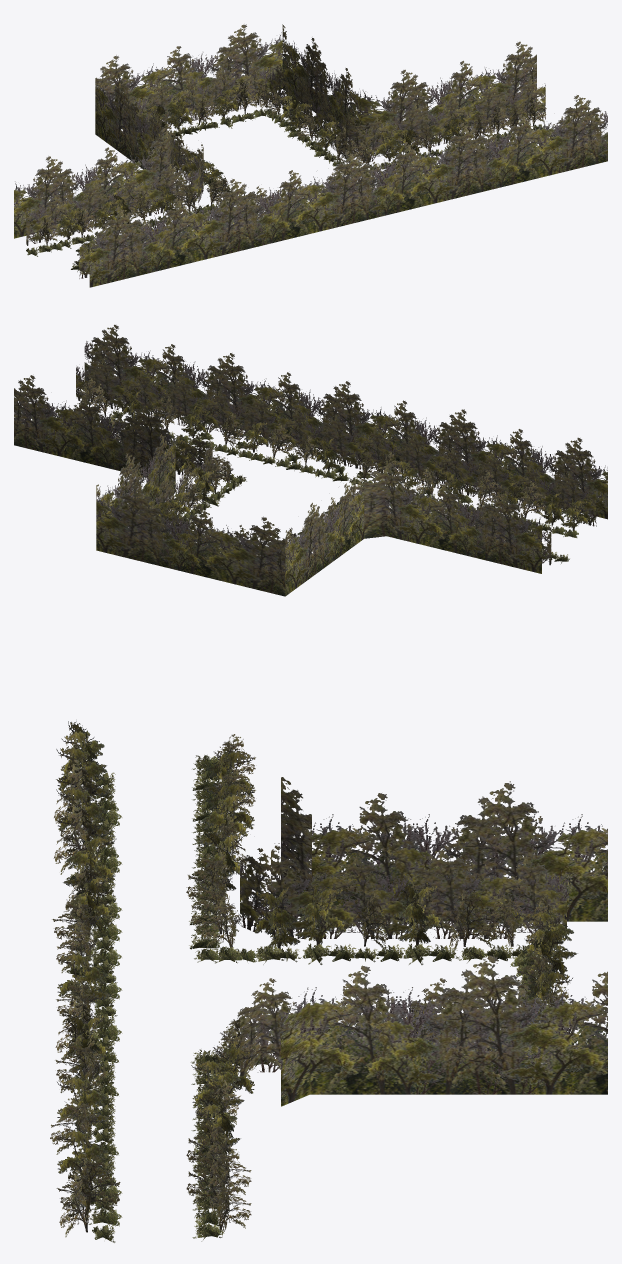
File: bushes.glb
The picture shows the model from 3 angles, top to bottom: view 1: azimuth 30°, elevation 25°; view 2: azimuth 150°, elevation 25°; view 3: azimuth 270°, elevation 25°; orthographic projection. The views are drawn at different scales.
Parts seen in each view (by area): view 1: Backgrounds_01_Background_0, Backgrounds_Background_0, Backgrounds_Background_01_0, Backgrounds_01_Background_01_0, Trees_003_Tree_01_0, Trees_005_Tree_01_0, Trees_005_Tree_0, Trees_004_Tree_0, Trees_002_Tree_01_0, Trees_002_Tree_0, Trees_003_Tree_0, Trees_004_Tree_01_0 (+5 smaller); view 2: Backgrounds_Background_0, Backgrounds_01_Background_0, Backgrounds_01_Background_01_0, Backgrounds_Background_01_0, Trees_001_Tree_01_0, Trees_001_Tree_0, Bushs_01_Bush_0, Trees_002_Tree_0, Bushs_Bush_0, Trees_002_Tree_01_0, Bushs_04_Bush_0; view 3: Backgrounds_Background_0, Backgrounds_Background_01_0, Trees_001_Tree_01_0, Trees_001_Tree_0, Bushs_01_Bush_0, Trees_003_Tree_01_0, Trees_Tree_0, Trees_Tree_01_0, Trees_005_Tree_0, Trees_005_Tree_01_0, Bushs_05_Bush_0, Bushs_Bush_0 (+5 smaller).
Boxes of the visible parts, box(x1,y1,x2,y2) form: Backgrounds_01_Background_0: box(89, 95, 607, 287); Backgrounds_Background_0: box(14, 24, 536, 238); Backgrounds_Background_01_0: box(26, 60, 545, 245); Backgrounds_01_Background_01_0: box(79, 113, 594, 278); Trees_003_Tree_01_0: box(354, 98, 546, 167); Trees_005_Tree_01_0: box(37, 177, 224, 245); Trees_005_Tree_0: box(57, 184, 178, 239); Trees_004_Tree_0: box(146, 87, 239, 130); Trees_002_Tree_01_0: box(264, 88, 358, 163); Trees_002_Tree_0: box(279, 91, 339, 150); Trees_003_Tree_0: box(374, 117, 467, 161); Trees_004_Tree_01_0: box(131, 79, 270, 131); Backgrounds_Background_0: box(14, 375, 541, 596); Backgrounds_01_Background_0: box(84, 324, 607, 519); Backgrounds_01_Background_01_0: box(76, 357, 596, 526); Backgrounds_Background_01_0: box(30, 395, 551, 570); Trees_001_Tree_01_0: box(79, 376, 546, 519); Trees_001_Tree_0: box(122, 390, 588, 530); Bushs_01_Bush_0: box(262, 451, 578, 537); Trees_002_Tree_0: box(157, 469, 215, 525); Bushs_Bush_0: box(71, 408, 264, 461); Trees_002_Tree_01_0: box(150, 457, 233, 532); Bushs_04_Bush_0: box(179, 475, 246, 528); Backgrounds_Background_0: box(281, 777, 607, 1106); Backgrounds_Background_01_0: box(240, 843, 566, 1075); Trees_001_Tree_01_0: box(50, 755, 120, 1237); Trees_001_Tree_0: box(56, 721, 116, 1179); Bushs_01_Bush_0: box(65, 772, 122, 1064); Trees_003_Tree_01_0: box(186, 1027, 255, 1236); Trees_Tree_0: box(252, 881, 442, 949); Trees_Tree_01_0: box(201, 888, 523, 954); Trees_005_Tree_0: box(198, 747, 254, 890); Trees_005_Tree_01_0: box(186, 734, 255, 939); Bushs_05_Bush_0: box(213, 943, 515, 964); Bushs_Bush_0: box(66, 1059, 122, 1242).
Size of the model in its own units: 195 by 28 by 99.22.
Materials: 5 (5 with a texture image).
